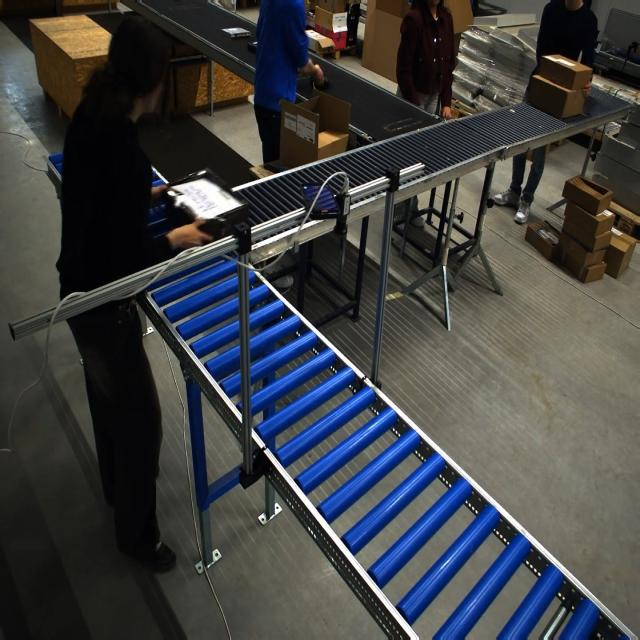box: (164, 169, 250, 241)
product: (220, 27, 252, 39), (313, 75, 331, 90), (246, 41, 257, 54)
